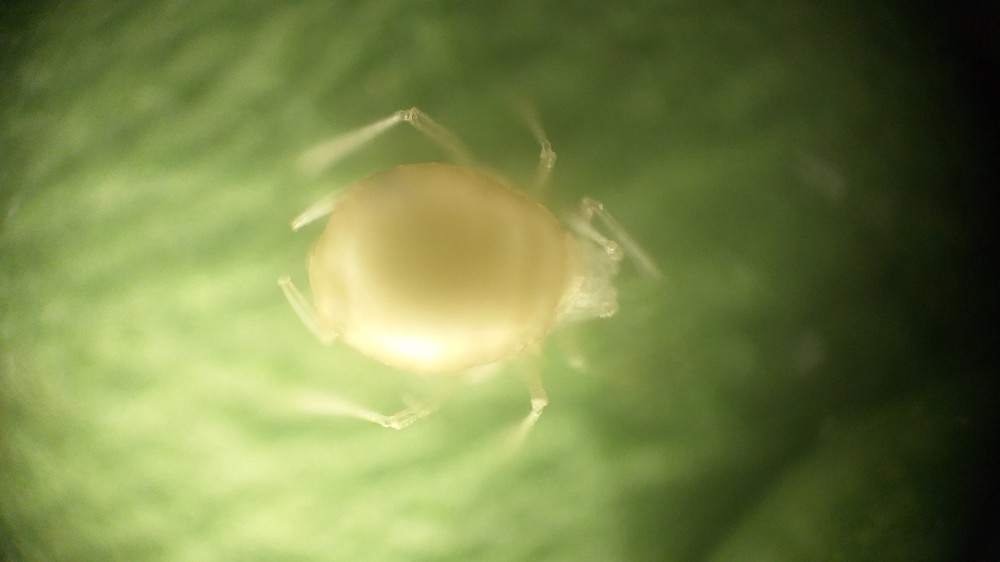Pulgon: (237, 75, 697, 506)
